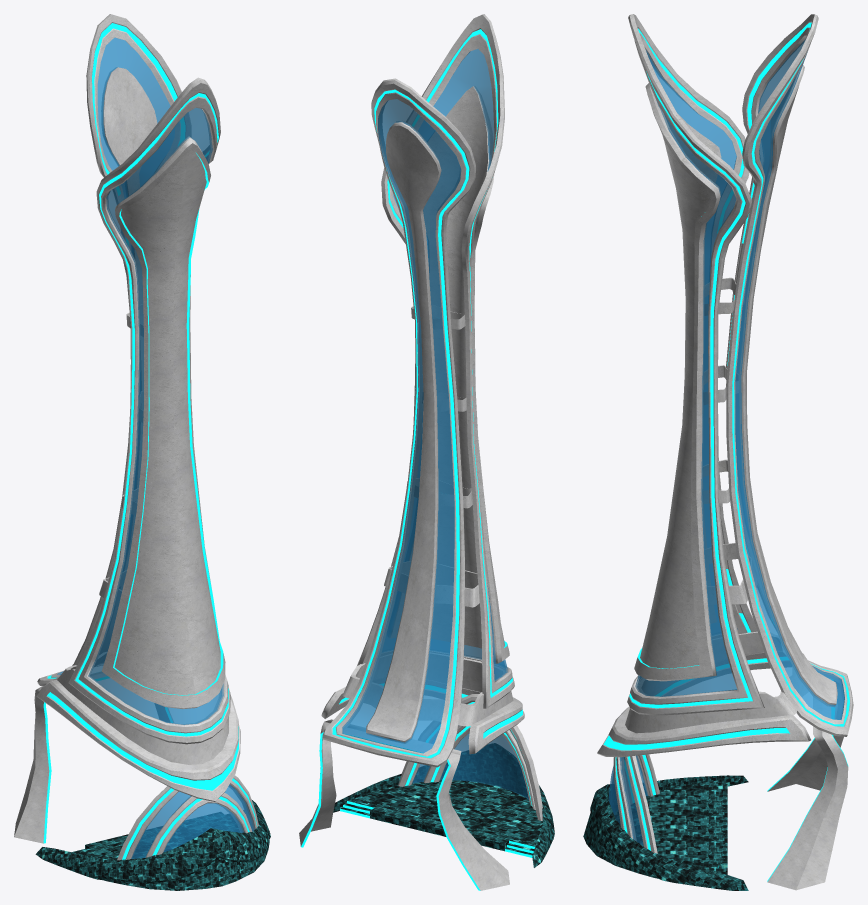
3 renders of one model, left to right at view 1: azimuth 30°, elevation 25°; view 2: azimuth 150°, elevation 25°; view 3: azimuth 270°, elevation 25°, orthographic. The views are drawn at different scales.
Parts seen in each view (by area): view 1: General_Geometry_03, General_Geometry_02, General_Geometry_05, Glass_Geometry_02, General_Geometry_04, General_Geometry_00, General_Geometry_01, Glass_Geometry_01, Support_Construction_00, Glass_Geometry_00, Support_Construction_01, Floor_ (+2 smaller); view 2: Glass_Geometry_01, General_Geometry_00, General_Geometry_03, General_Geometry_01, General_Geometry_02, Floor_, Support_Construction_00, Glass_Geometry_02, General_Geometry_05, Support_Construction_01, Glass_Geometry_00, General_Geometry_04 (+4 smaller); view 3: General_Geometry_03, General_Geometry_02, General_Geometry_00, Glass_Geometry_02, Support_Construction_00, General_Geometry_01, Glass_Geometry_01, General_Geometry_04, Floor_, General_Geometry_05, Support_Construction_01, Scene_Rings_01 (+3 smaller).
Part boxes in pixels (x1,y1,x2,y2): General_Geometry_03: (101,136,225,709); General_Geometry_02: (68,77,230,744); General_Geometry_05: (35,800,270,890); Glass_Geometry_02: (88,108,223,724); General_Geometry_04: (36,679,240,801); General_Geometry_00: (37,14,191,685); General_Geometry_01: (99,67,157,664); Glass_Geometry_01: (57,37,174,674); Support_Construction_00: (14,672,173,843); Glass_Geometry_00: (131,784,254,858); Support_Construction_01: (57,652,228,764); Floor_: (72,810,244,859); Glass_Geometry_01: (342,99,461,753); General_Geometry_00: (322,78,475,767); General_Geometry_03: (390,86,509,663); General_Geometry_01: (366,121,441,743); General_Geometry_02: (357,14,514,708); Floor_: (340,779,542,857); Support_Construction_00: (299,719,509,890); Glass_Geometry_02: (382,49,507,680); General_Geometry_05: (333,743,554,867); Support_Construction_01: (342,652,513,726); Glass_Geometry_00: (412,725,528,799); General_Geometry_04: (321,678,524,754); General_Geometry_03: (634,83,721,681); General_Geometry_02: (627,14,764,715); General_Geometry_00: (726,14,853,736); Glass_Geometry_02: (635,49,737,696); Support_Construction_00: (767,678,848,890); General_Geometry_01: (739,65,837,706); Glass_Geometry_01: (735,38,844,719); General_Geometry_04: (597,652,810,757); Floor_: (614,780,727,874); General_Geometry_05: (583,775,748,890); Support_Construction_01: (625,631,808,733); Scene_Rings_01: (625,754,659,853).
Size of what is drawn, in the model's own units: 14.77 by 52.05 by 15.5.
Materials: 4 (2 with a texture image).
